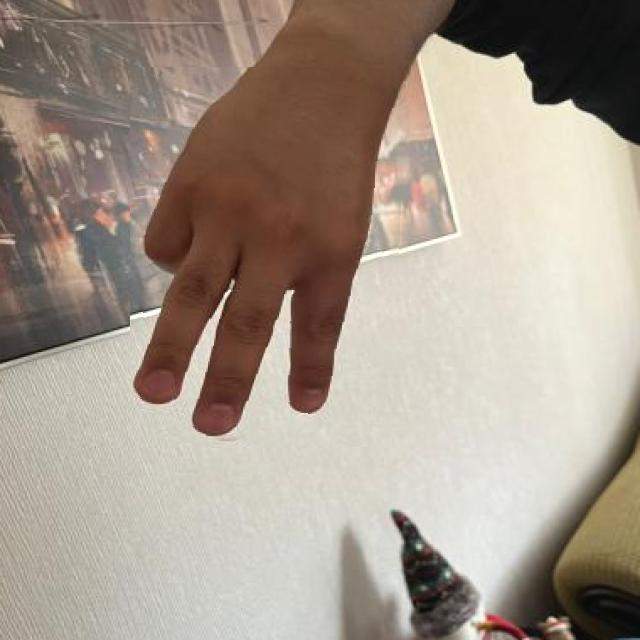M: (130, 67, 406, 448)
